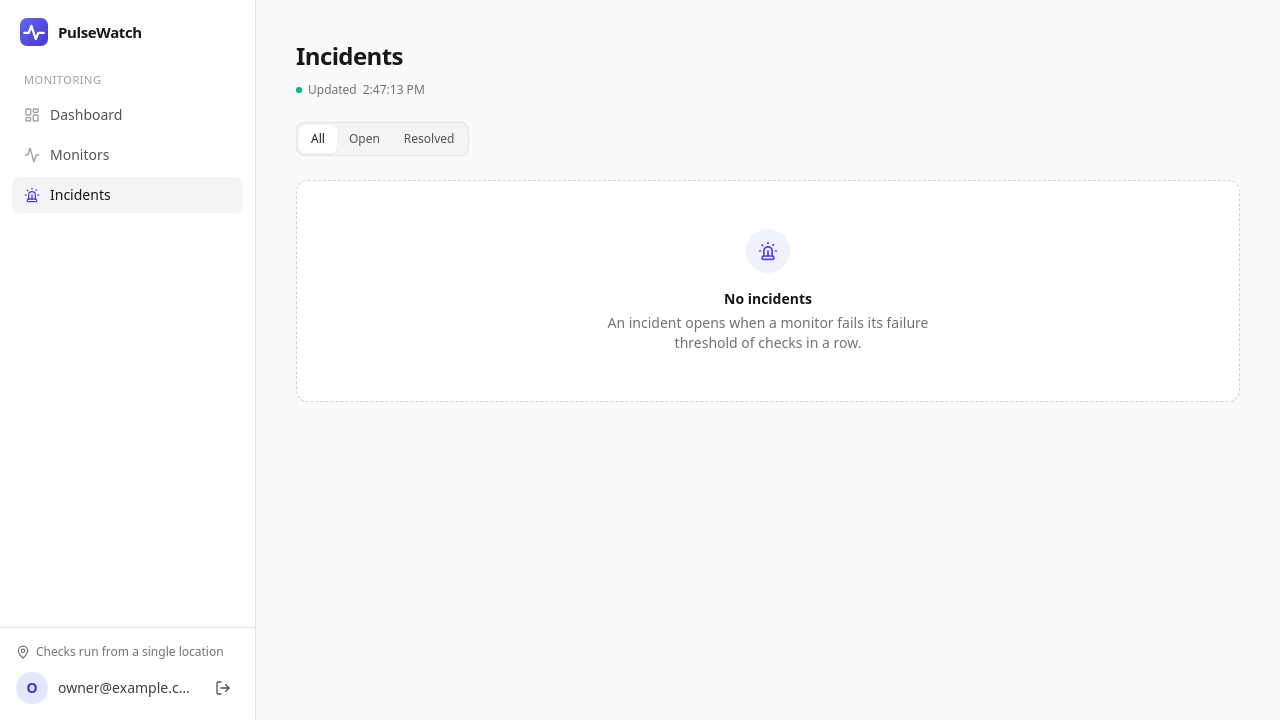
incidents › filters the list by status
Click the button "Open" at (364, 139), box [337,125,392,153]
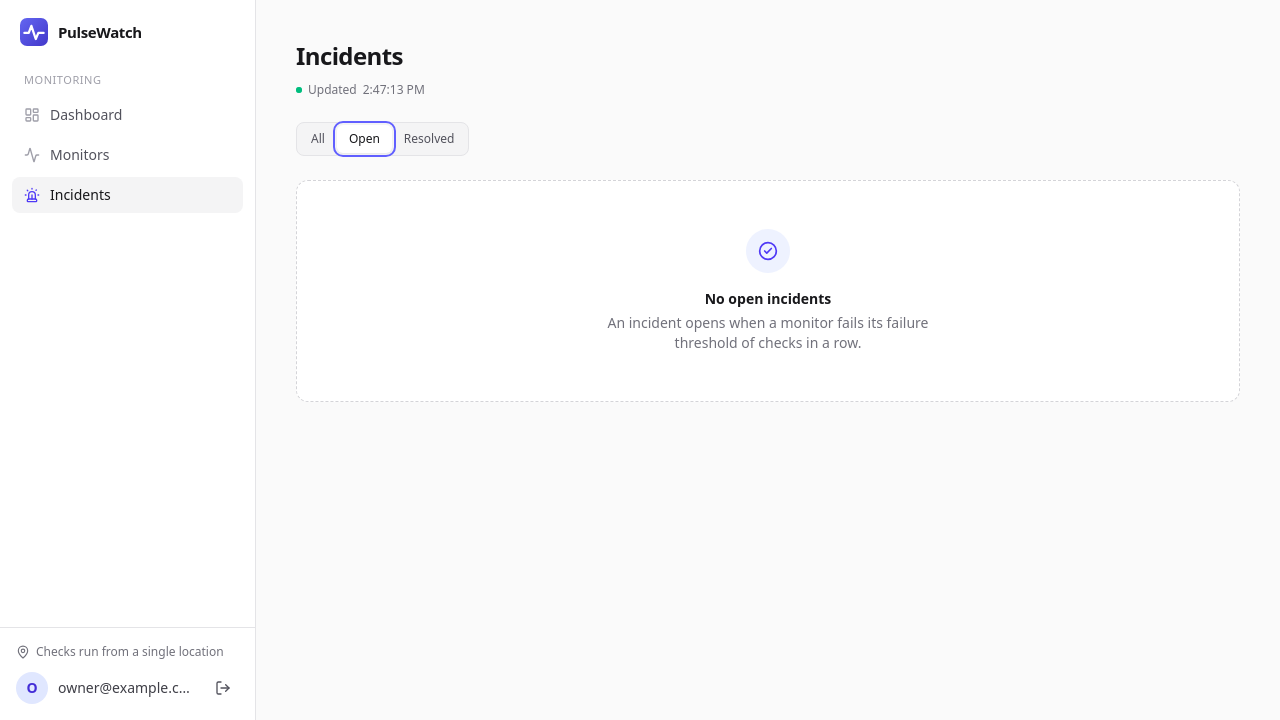
Expected: the heading "No open incidents" is shown, [705,289,831,308]
